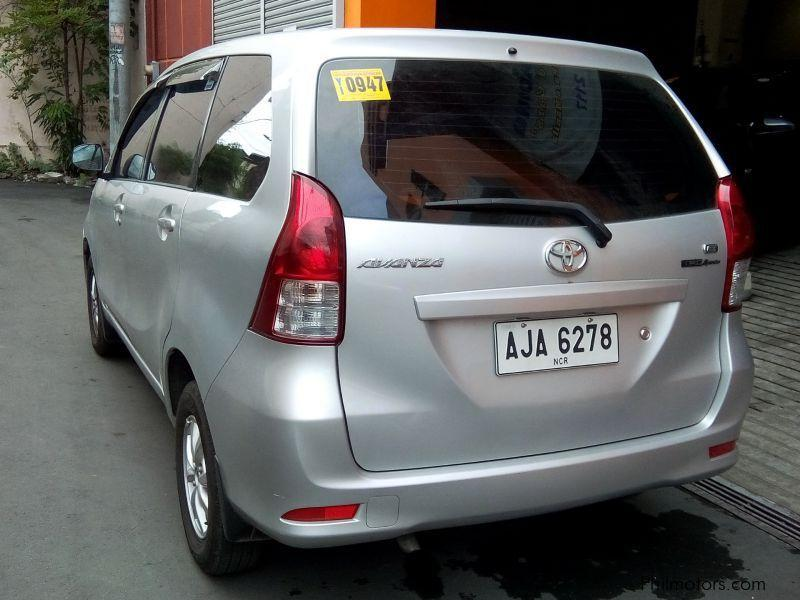plate: (496, 315, 618, 374)
